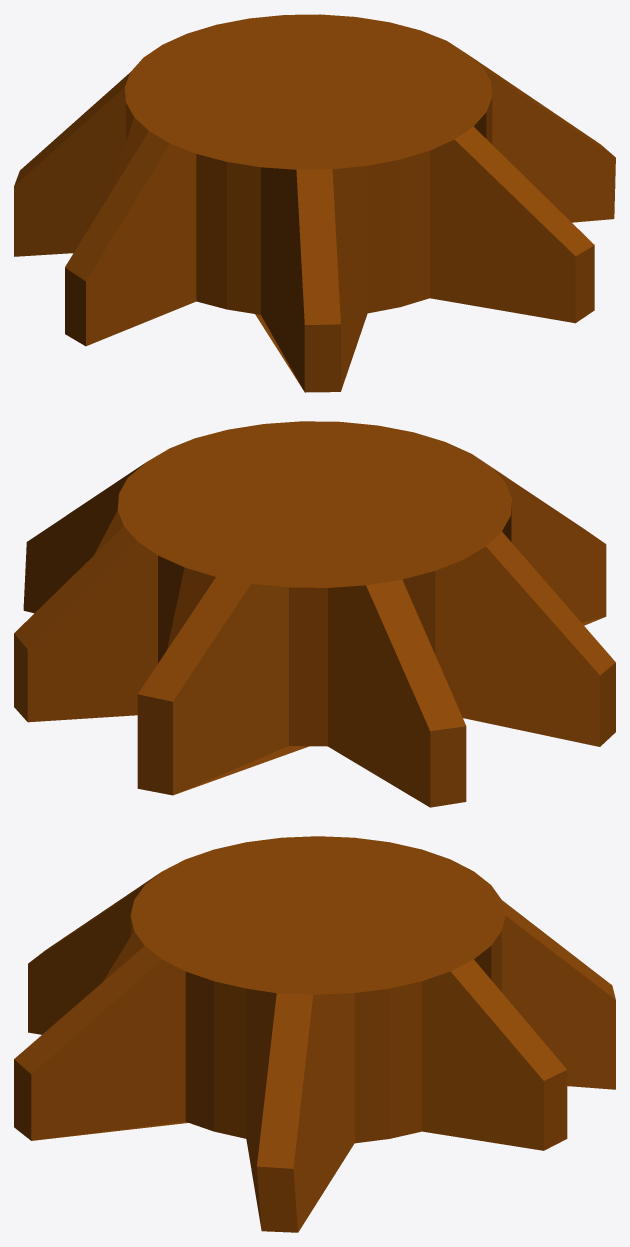
Rendered from tree stump.fbx.
3 renders of one model, top to bottom at view 1: azimuth 30°, elevation 25°; view 2: azimuth 150°, elevation 25°; view 3: azimuth 270°, elevation 25°, orthographic. The views are drawn at different scales.
Parts seen in each view (by area): view 1: Cylinder; view 2: Cylinder; view 3: Cylinder.
Boxes of the visible parts, x1,y1,x2,y2 form: Cylinder: (14, 14, 615, 392); Cylinder: (14, 421, 615, 807); Cylinder: (14, 836, 615, 1232).
Bounding box in the file's own units: 3977 × 1238 × 3801.
